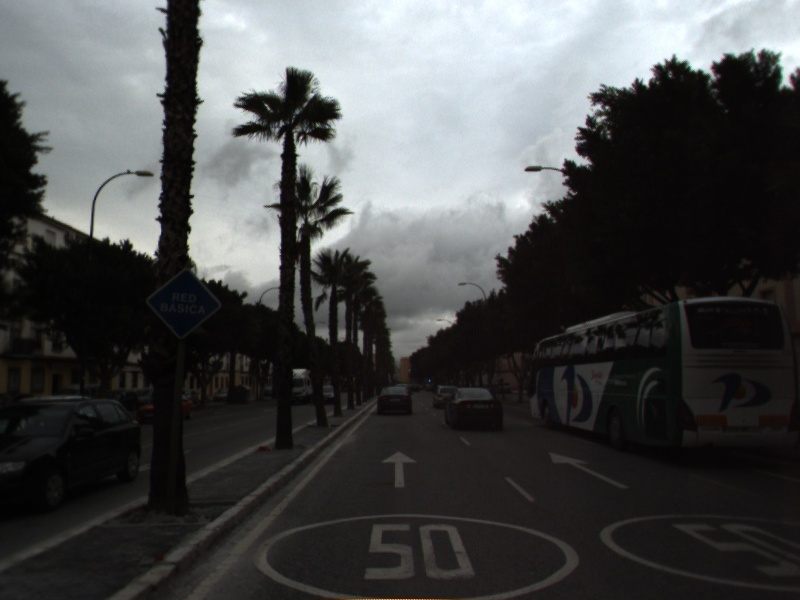STRAIGHT: (547, 450, 633, 492), (380, 449, 420, 490)
